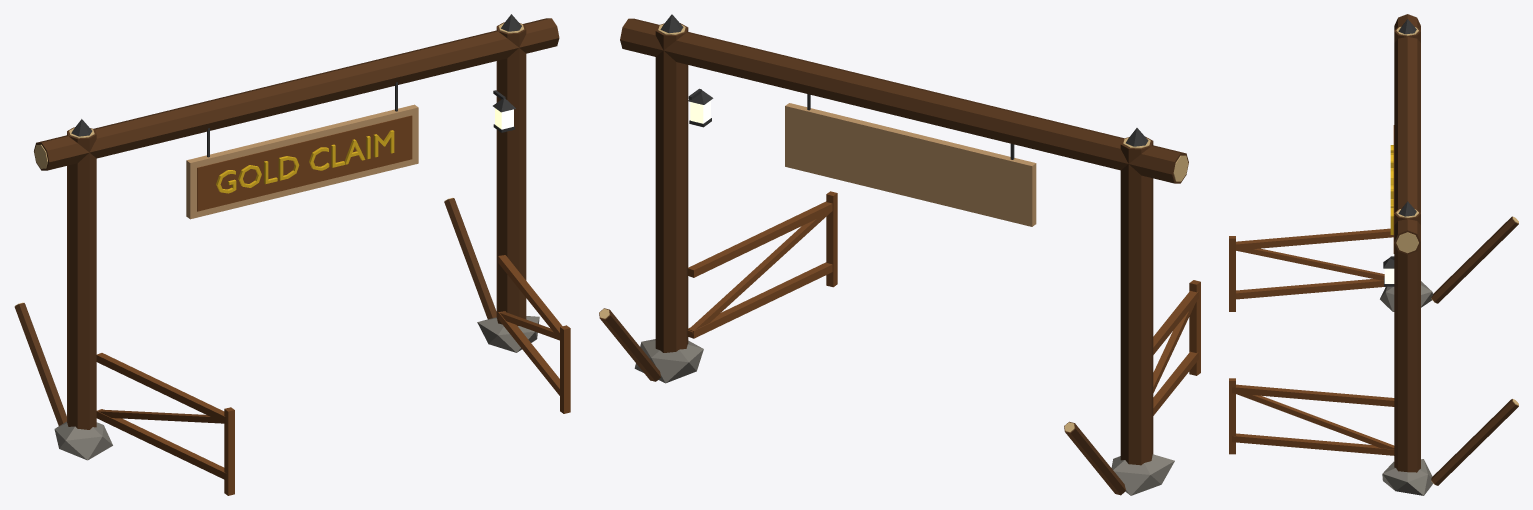
The model's file is Camp_ClaimGate.fbx.
The picture shows the model from 3 angles, left to right: view 1: azimuth 30°, elevation 25°; view 2: azimuth 150°, elevation 25°; view 3: azimuth 270°, elevation 25°; orthographic projection. The views are drawn at different scales.
Parts seen in each view (by area): view 1: Camp_ClaimGate; view 2: Camp_ClaimGate; view 3: Camp_ClaimGate.
Boxes of the visible parts, left/top/right/bottom form: Camp_ClaimGate: left=14, top=14, right=570, bottom=495; Camp_ClaimGate: left=599, top=14, right=1200, bottom=495; Camp_ClaimGate: left=1229, top=14, right=1518, bottom=495.
Size of the model in its own units: 7.62 by 4.73 by 4.3.
